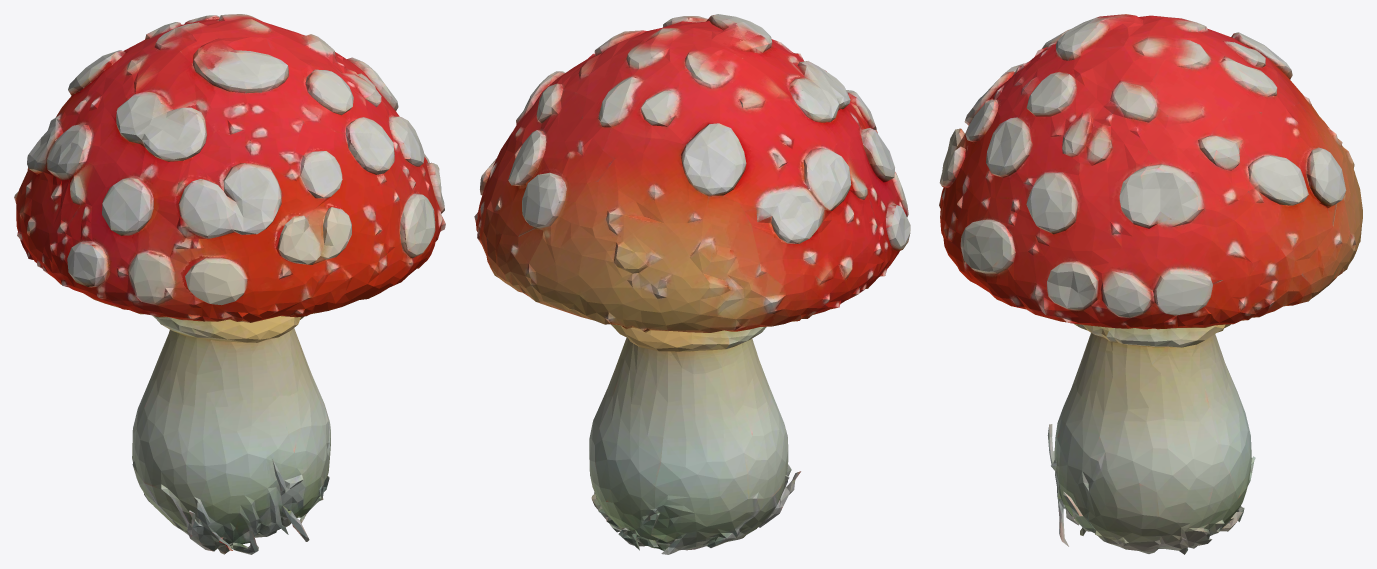
File: toadstool.glb
The picture shows the model from 3 angles, left to right: view 1: azimuth 30°, elevation 25°; view 2: azimuth 150°, elevation 25°; view 3: azimuth 270°, elevation 25°; orthographic projection.
Size of the model in its own units: 1.55 by 1.97 by 1.5.
1 material, 1 textured.
